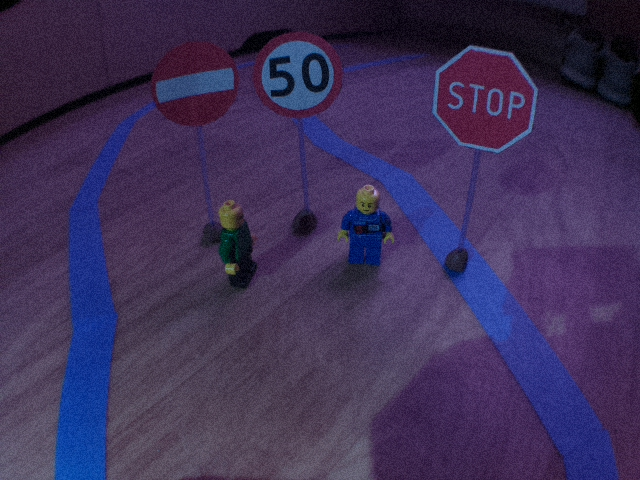LEGO_person: (336, 180, 397, 272), (215, 196, 261, 292)
ogr_50: (251, 30, 344, 120)
stop: (429, 43, 541, 156)
zakaz: (149, 38, 242, 127)
